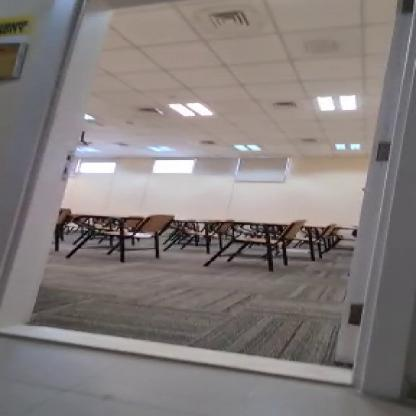open: (0, 0, 404, 392)
